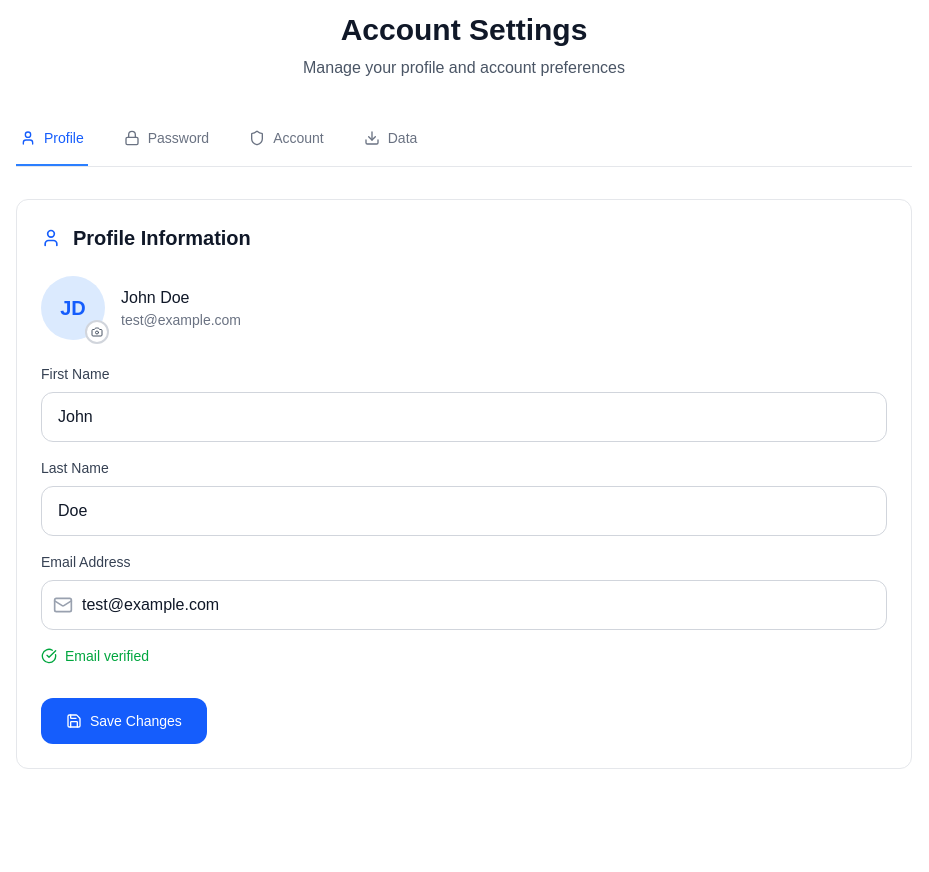
Test: ProfileManagement › Password Tab › validates password requirements
Click the button "Password" at x=166, y=139, box x1=120 y1=112 x2=213 y2=166
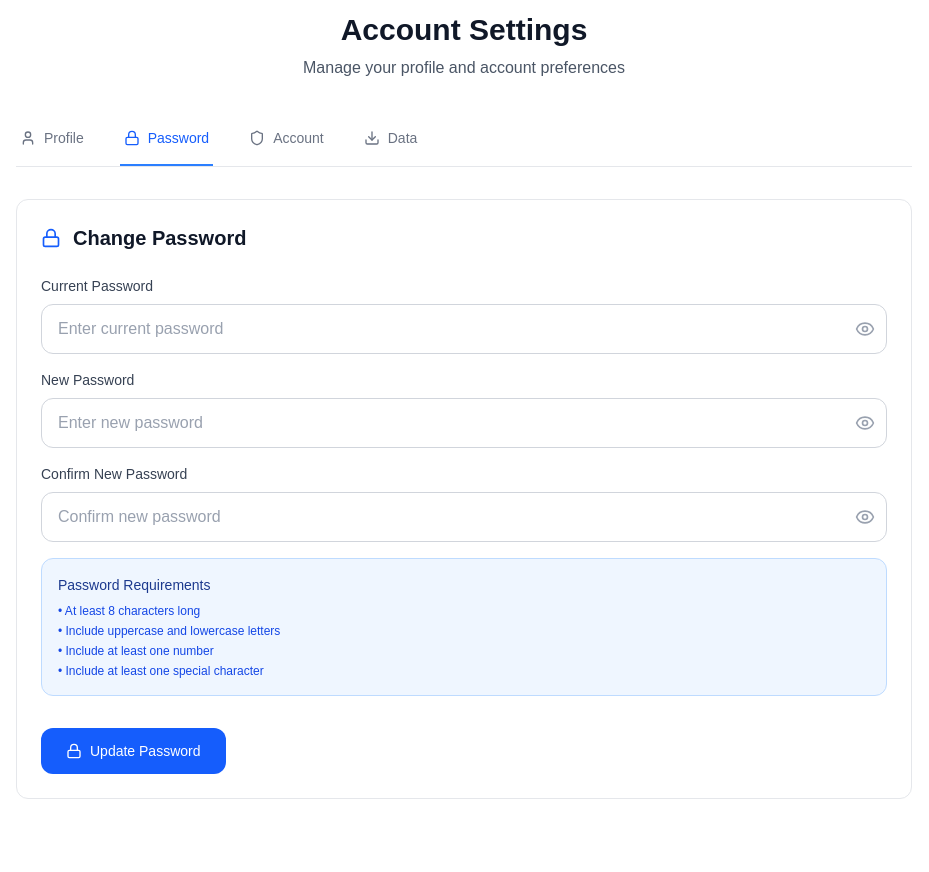
Type "currentpass" into the password field labelled "Current Password" at x=464, y=329, box x1=41 y1=304 x2=887 y2=354
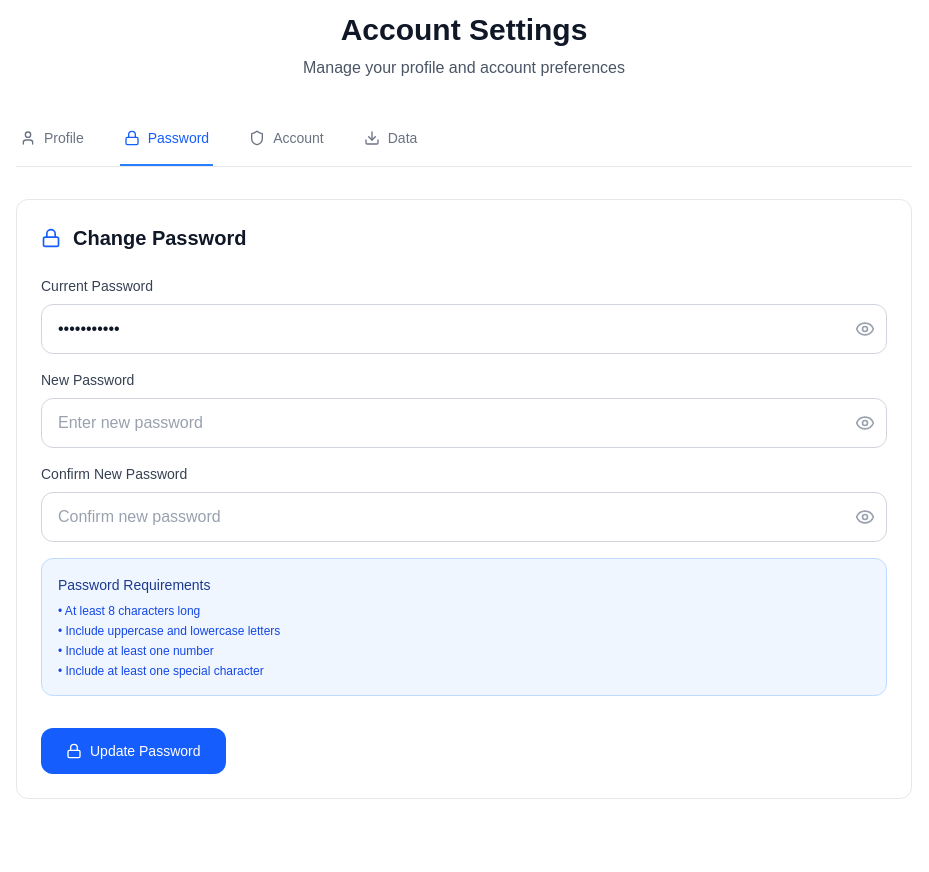
Type "short" into the password field labelled "New Password" at x=464, y=423, box x1=41 y1=398 x2=887 y2=448
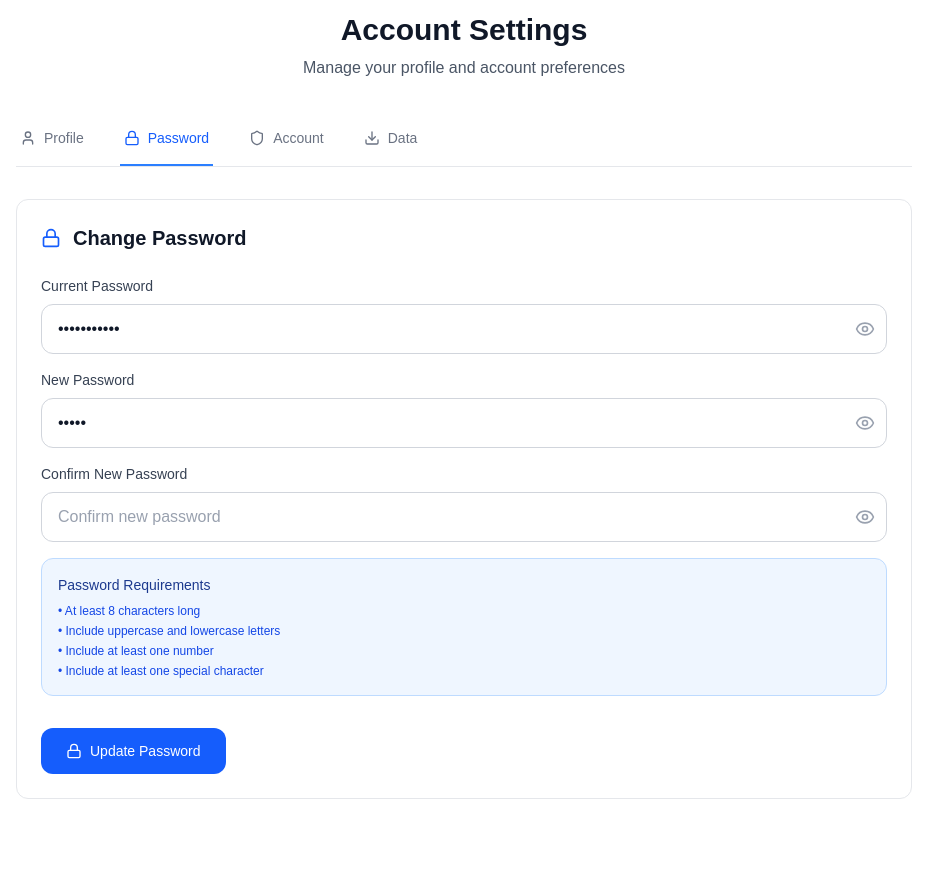
Type "different" into the password field labelled "Confirm New Password" at x=464, y=517, box x1=41 y1=492 x2=887 y2=542
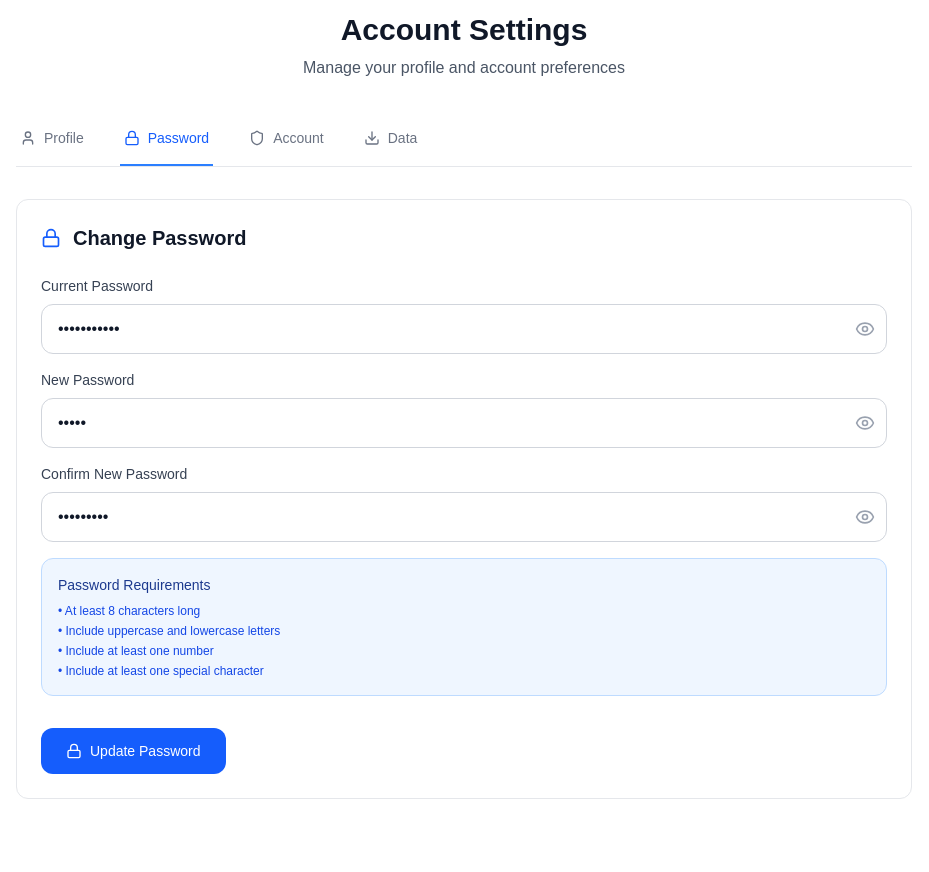
Click the button "Update Password" at x=133, y=751, box x1=41 y1=728 x2=226 y2=774
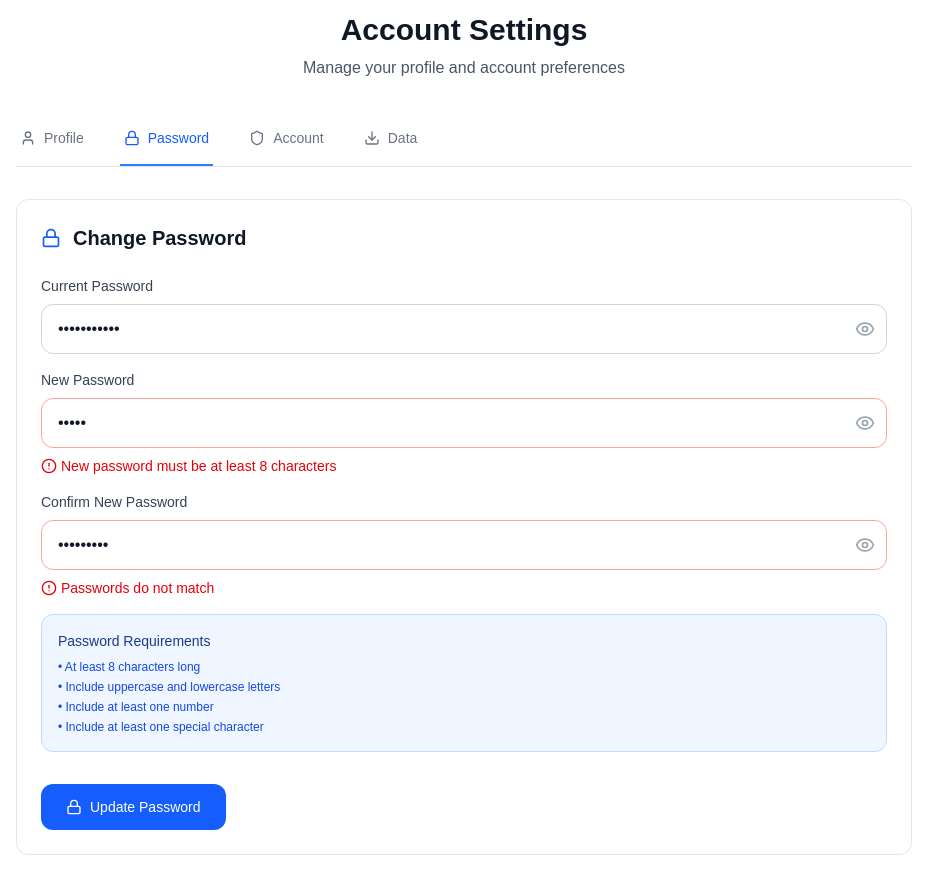
Check: the text "New password must be at least 8 characters" is shown, box x1=41 y1=458 x2=336 y2=474
Check: the text "Passwords do not match" is shown, box x1=41 y1=580 x2=214 y2=596
